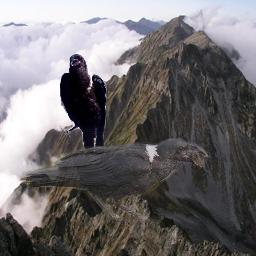Crow: (18, 136, 209, 224), (59, 53, 107, 159)
